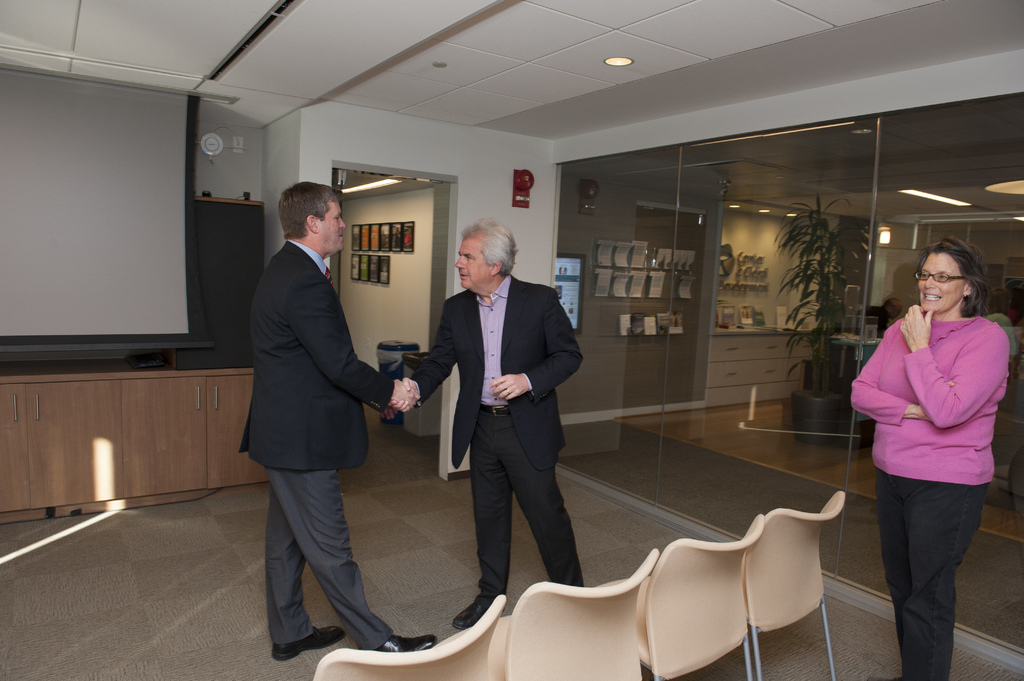Footwear: (271, 623, 343, 656), (456, 593, 502, 629), (383, 631, 436, 655)
